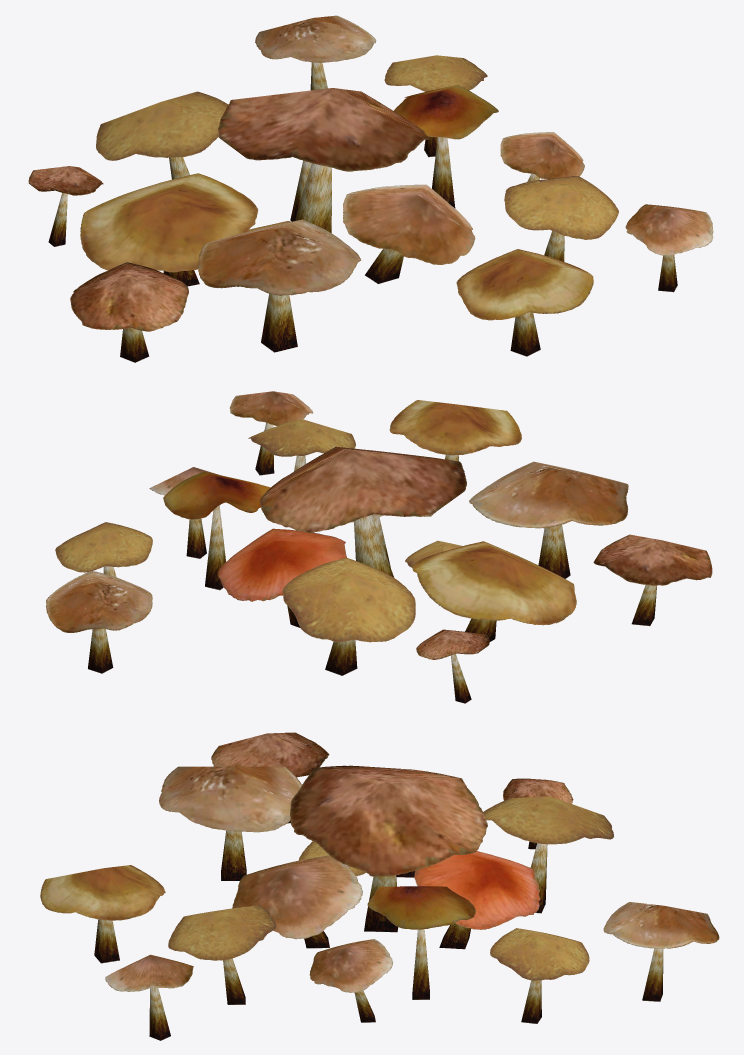
The model's file is fngi_mushroom_clump_a1_l0.fbx.
3 renders of one model, top to bottom at view 1: azimuth 30°, elevation 25°; view 2: azimuth 150°, elevation 25°; view 3: azimuth 270°, elevation 25°, orthographic. The views are drawn at different scales.
Parts seen in each view (by area): view 1: mesh_node; view 2: mesh_node; view 3: mesh_node.
Boxes of the visible parts, x1,y1,x2,y2 form: mesh_node: (28,15,713,362); mesh_node: (46,391,712,703); mesh_node: (40,732,719,1040).
Bounding box in the file's own units: 1.37 × 0.3505 × 1.48.
